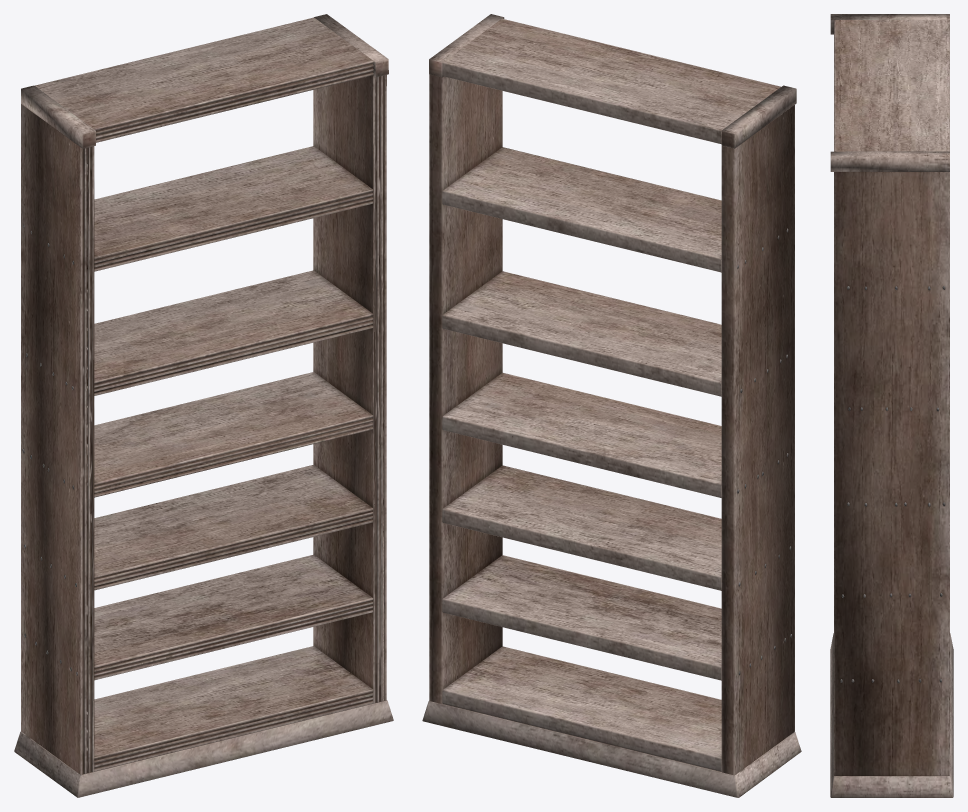
The model's file is wooden_bookshelf_worn_lod2.glb.
The picture shows the model from 3 angles, left to right: view 1: azimuth 30°, elevation 25°; view 2: azimuth 150°, elevation 25°; view 3: azimuth 270°, elevation 25°; orthographic projection. The views are drawn at different scales.
Parts seen in each view (by area): view 1: wooden_bookshelf_worn; view 2: wooden_bookshelf_worn; view 3: wooden_bookshelf_worn.
Boxes of the visible parts, x1,y1,x2,y2 form: wooden_bookshelf_worn: (14, 14, 393, 797); wooden_bookshelf_worn: (422, 14, 801, 797); wooden_bookshelf_worn: (830, 14, 953, 797).
Size of the model in its own units: 1 by 2 by 0.3501.
1 material, 1 textured.
